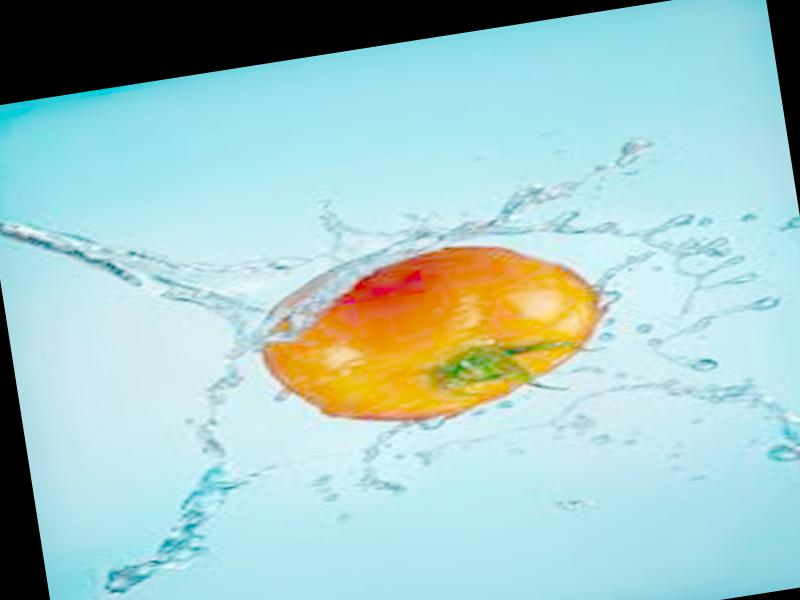Tomato: (250, 222, 616, 441)
